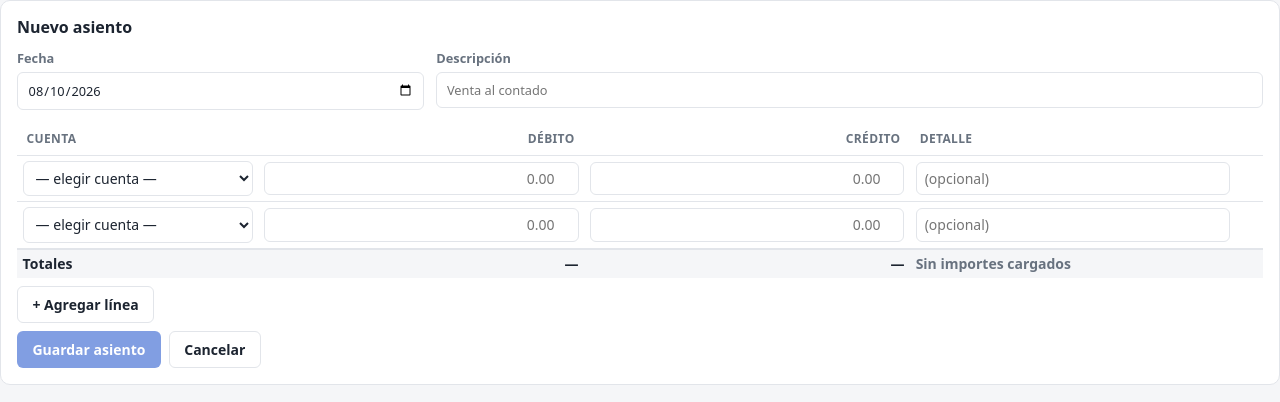
AsientoNuevo › marca el asiento como balanceado cuando débitos = créditos
This screenshot has width=1280, height=402.
In the field with placeholder "Venta al contado": (850, 90) [436,72,1263,108], type "Aporte"
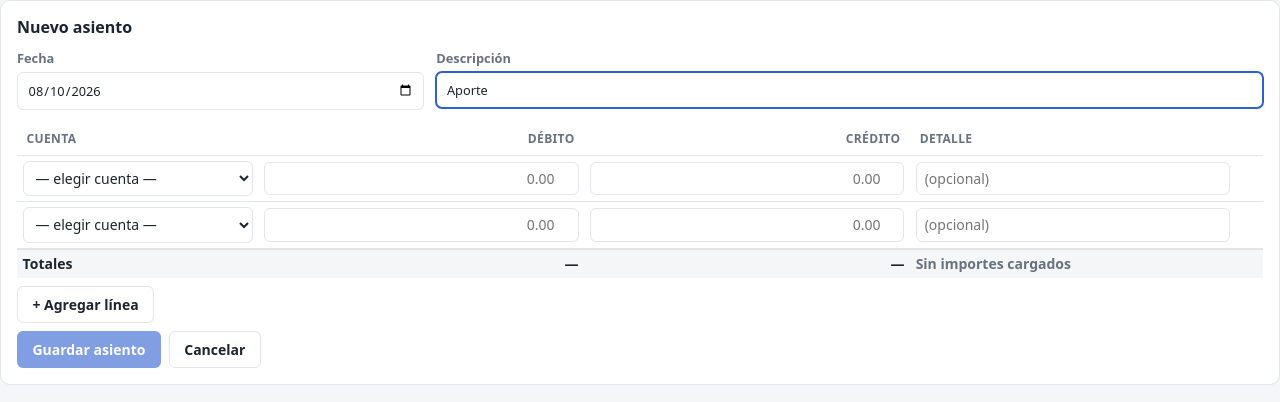
Select "1.1.01 — Caja" in the 1st dropdown: (138, 178) [23,161,253,196]
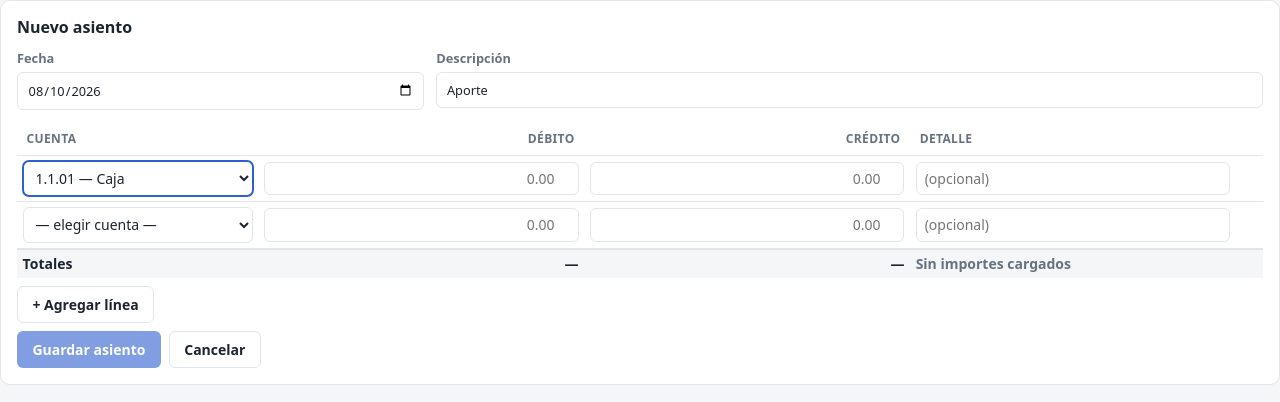
In the 1st number field with placeholder "0.00": (421, 178) [264,162,579,195], type "1000"
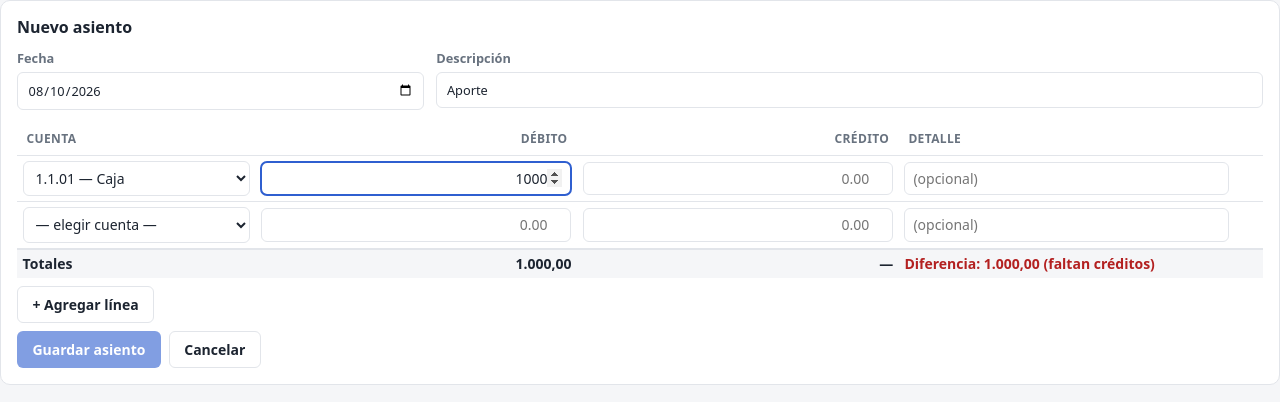
Select "3.1.01 — Capital" in the 2nd dropdown: (136, 225) [23,207,250,243]
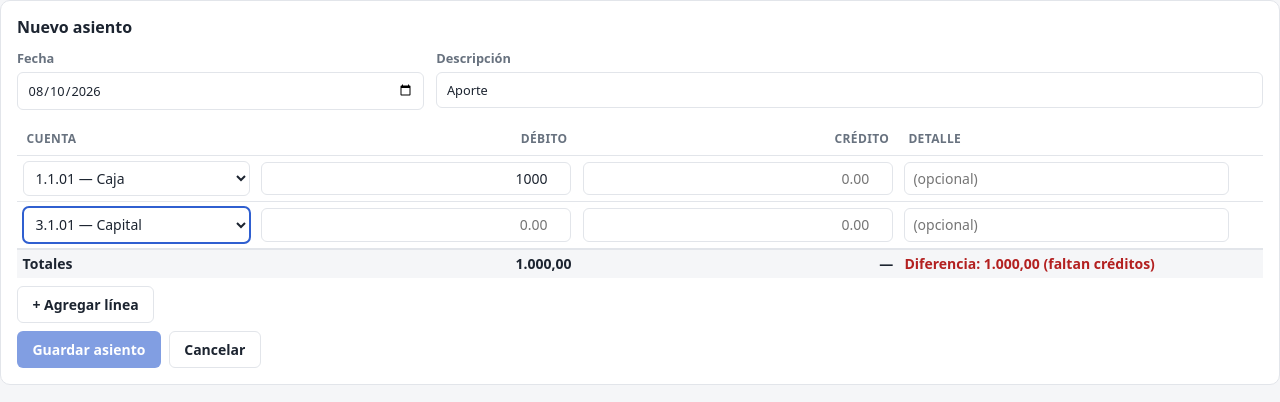
In the 3rd number field with placeholder "0.00": (738, 225) [583,208,893,242], type "1000"
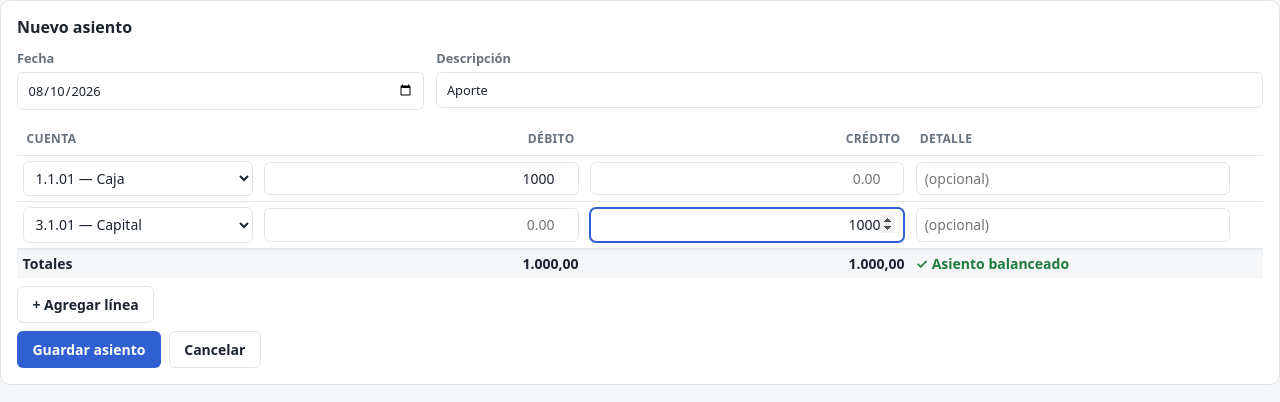
Check: the text "✓ Asiento balanceado" is shown, box [916,254,1069,273]
Check: the button "Guardar asiento" is enabled, box [17,331,161,368]
